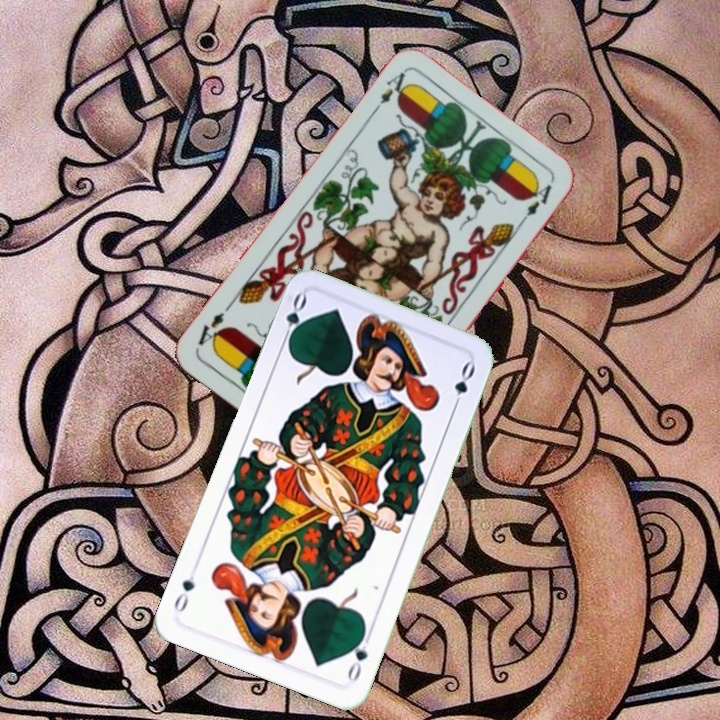EA: (367, 67, 411, 118)
GO: (277, 289, 310, 349), (343, 627, 374, 684)
